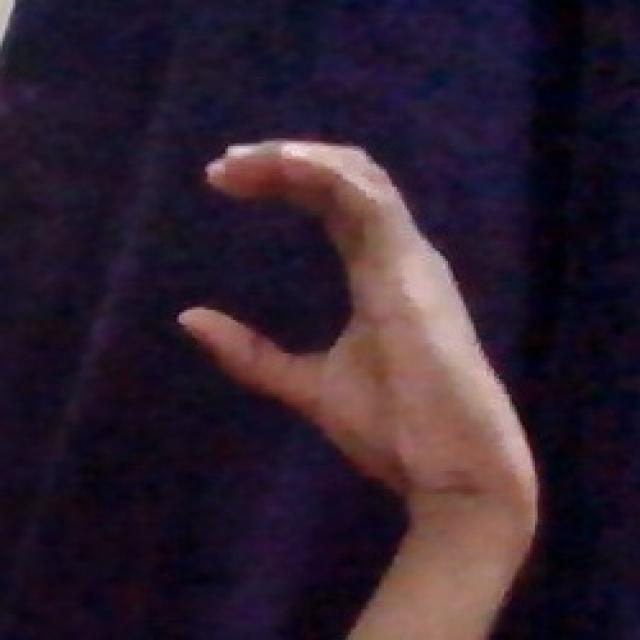Alphabet-C: (165, 102, 524, 476)
